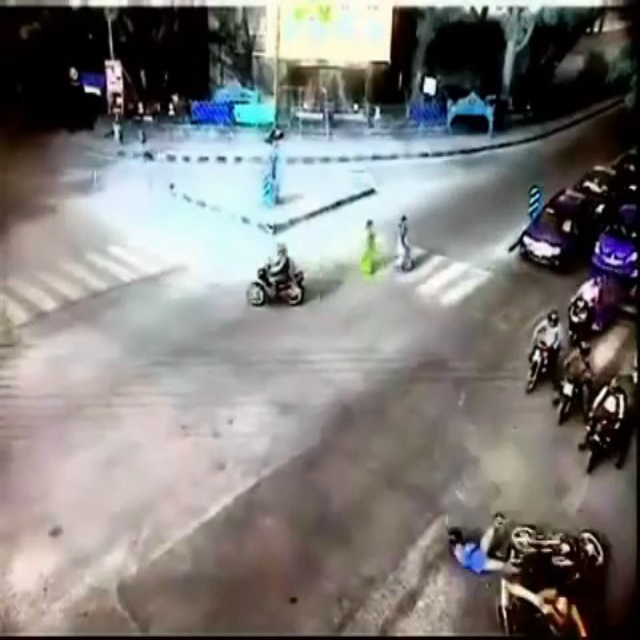acc: (441, 513, 617, 640)
